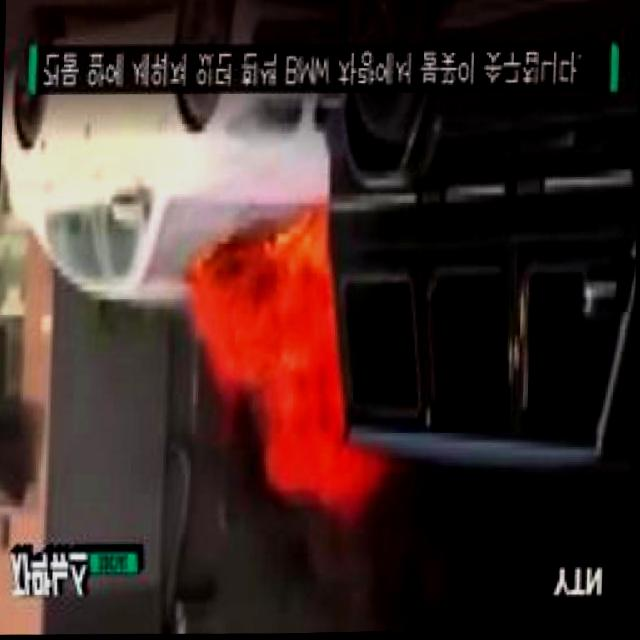helmet: (209, 219, 397, 506)
